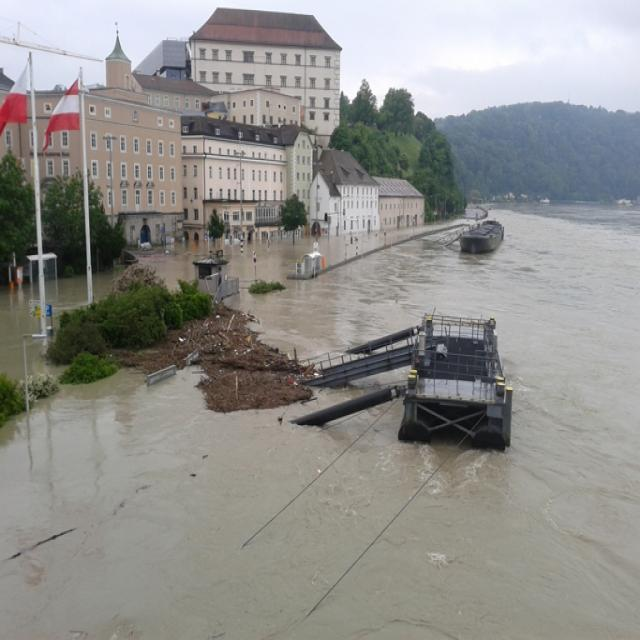flood: (0, 205, 640, 640)
house: (183, 7, 344, 134), (72, 78, 201, 228), (184, 85, 314, 206), (311, 148, 380, 234), (378, 172, 428, 229)
